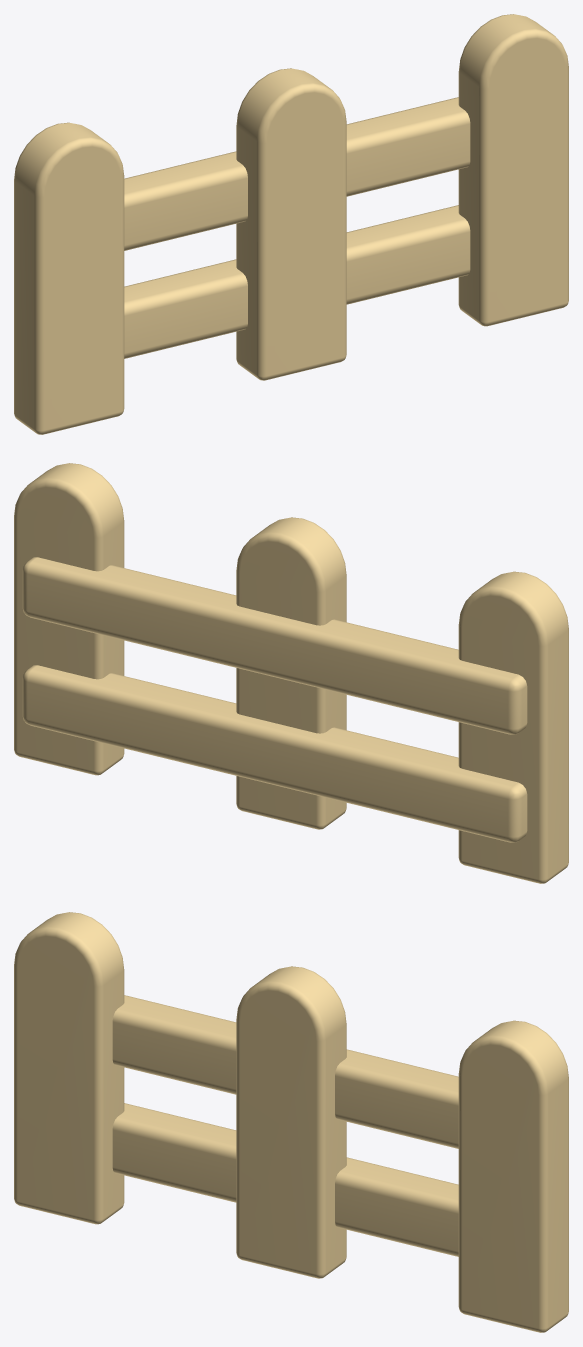
Rendered from cream_round_fence.glb.
3 views of the same model, one above another, from view 1: azimuth 30°, elevation 25°; view 2: azimuth 150°, elevation 25°; view 3: azimuth 330°, elevation 25° (orthographic).
Parts seen in each view (by area): view 1: rounded_picket, rounded_picket.001, rounded_picket.002, horizontal_rail, horizontal_rail.001; view 2: horizontal_rail, horizontal_rail.001, rounded_picket, rounded_picket.002, rounded_picket.001; view 3: rounded_picket.002, rounded_picket.001, rounded_picket, horizontal_rail, horizontal_rail.001.
Boxes of the visible parts, x1,y1,x2,y2 form: rounded_picket: (14,122,124,434); rounded_picket.001: (236,68,346,380); rounded_picket.002: (458,14,568,326); horizontal_rail: (124,205,470,358); horizontal_rail.001: (124,97,470,250); horizontal_rail: (22,665,527,842); horizontal_rail.001: (22,557,527,734); rounded_picket: (458,571,568,883); rounded_picket.002: (14,463,124,775); rounded_picket.001: (236,517,346,829); rounded_picket.002: (458,1020,568,1332); rounded_picket.001: (236,966,346,1278); rounded_picket: (14,912,124,1224); horizontal_rail: (112,1103,458,1256); horizontal_rail.001: (112,995,458,1148).
Size of the model in its own units: 1.5 by 0.77 by 0.18.
